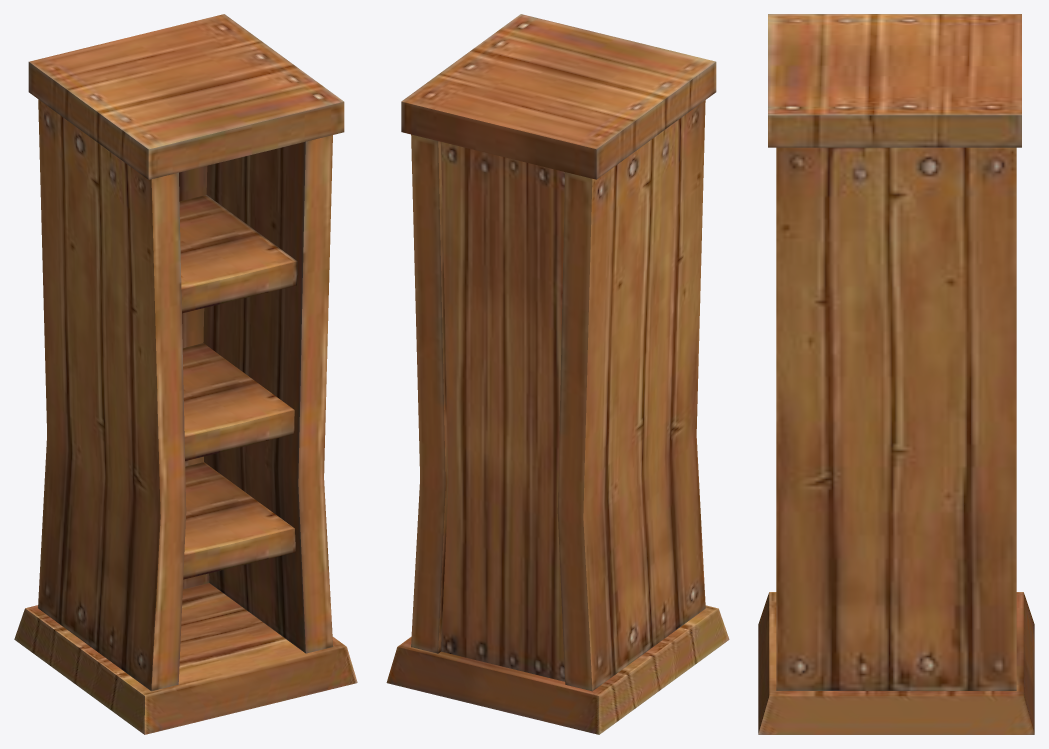
Rendered from SM_cupboard_04.gltf.
The picture shows the model from 3 angles, left to right: view 1: azimuth 30°, elevation 25°; view 2: azimuth 150°, elevation 25°; view 3: azimuth 270°, elevation 25°; orthographic projection. The views are drawn at different scales.
Visible parts, largest first — view 1: SM_cupboard_04; view 2: SM_cupboard_04; view 3: SM_cupboard_04.
Part boxes in pixels (x1,y1,x2,y2): SM_cupboard_04: [14, 14, 357, 734]; SM_cupboard_04: [386, 14, 729, 734]; SM_cupboard_04: [758, 14, 1034, 734].
Bounding box in the file's own units: 0.6301 × 1.64 × 0.6677.
1 material, 1 textured.
